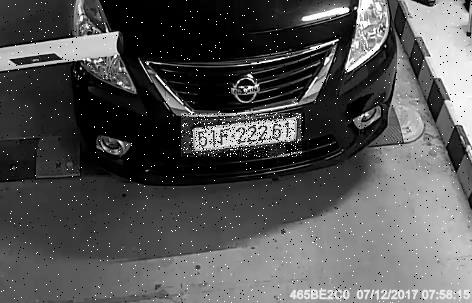License-plate: (183, 114, 305, 158)
